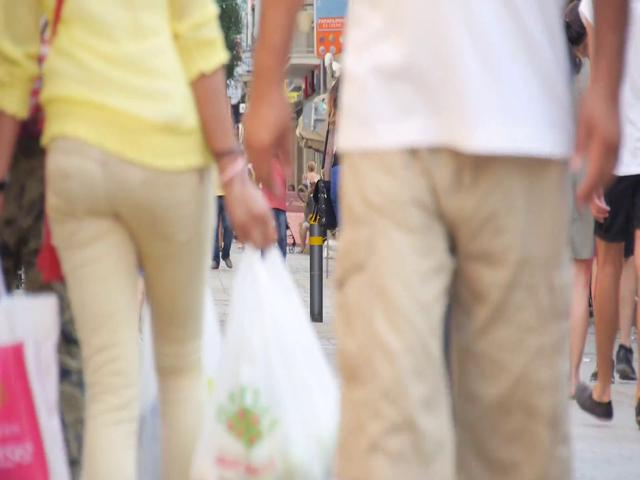shoe: (575, 382, 613, 421), (615, 343, 637, 380)
